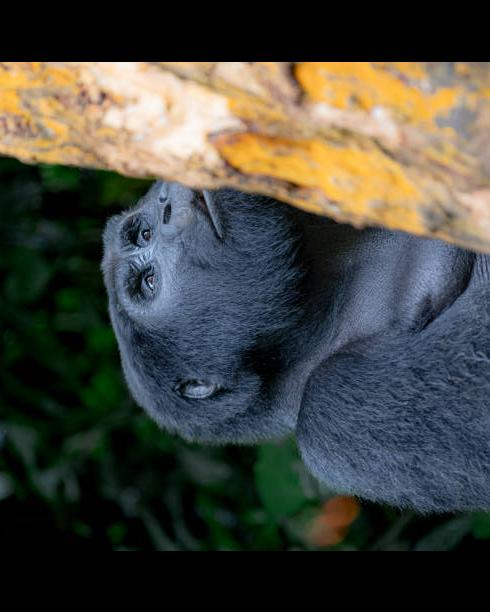goriile_montagne: (54, 174, 490, 534)
